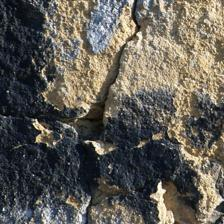Crack: (76, 4, 146, 223), (5, 102, 220, 171)
